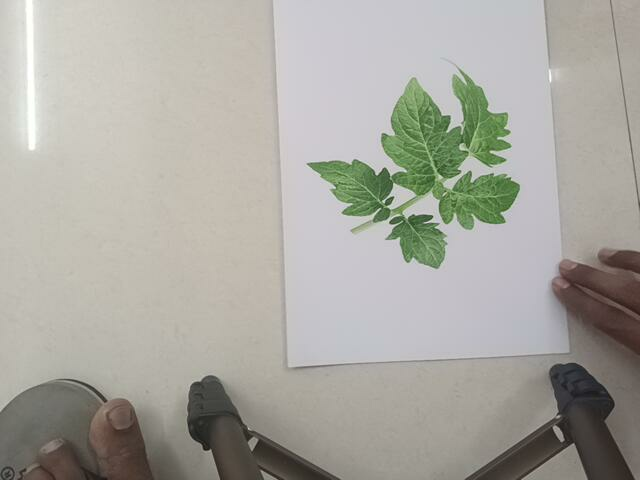Tomamto_Leaf_Healthy: (300, 55, 523, 277)
